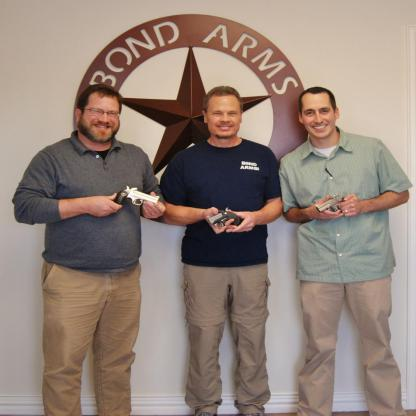face: (87, 99, 122, 141), (209, 95, 241, 138), (304, 96, 335, 136)
